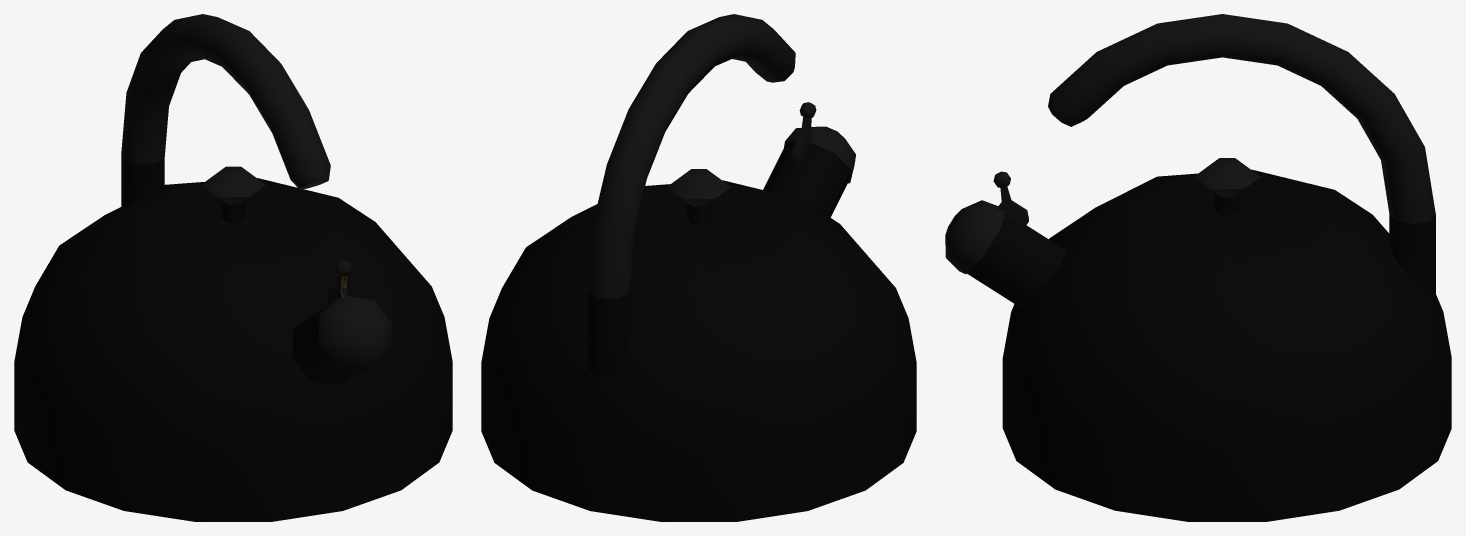
Rendered from Teapot.FBX.
The picture shows the model from 3 angles, left to right: view 1: azimuth 30°, elevation 25°; view 2: azimuth 150°, elevation 25°; view 3: azimuth 270°, elevation 25°; orthographic projection. The views are drawn at different scales.
Parts seen in each view (by area): view 1: Teapot_LOD0; view 2: Teapot_LOD0; view 3: Teapot_LOD0.
Boxes of the visible parts, x1=… form: Teapot_LOD0: x1=14, y1=14, x2=452, y2=521; Teapot_LOD0: x1=481, y1=14, x2=916, y2=521; Teapot_LOD0: x1=945, y1=14, x2=1451, y2=521.
Size of what is drawn, in the model's own units: 22.19 by 22.92 by 25.43.
